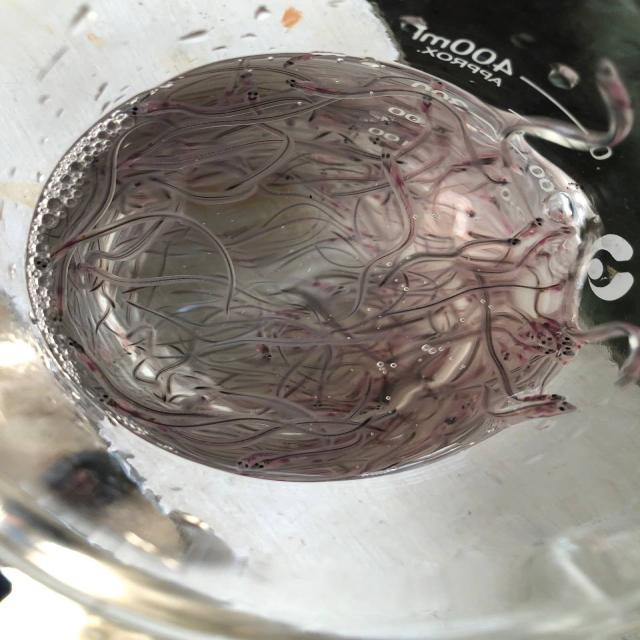glass_eel: (590, 54, 622, 92), (282, 76, 321, 94), (531, 331, 561, 353), (61, 334, 87, 358), (31, 254, 56, 277), (542, 387, 572, 406), (125, 102, 156, 120), (378, 144, 399, 169), (554, 332, 586, 348), (49, 308, 73, 329), (232, 454, 256, 474), (250, 455, 274, 475), (366, 132, 389, 152), (550, 401, 580, 416), (418, 90, 440, 110), (280, 55, 304, 73), (499, 346, 520, 366), (310, 394, 329, 416), (95, 389, 118, 407), (256, 344, 276, 364), (242, 86, 261, 106), (530, 213, 548, 232), (276, 171, 303, 183), (366, 400, 389, 414), (461, 208, 481, 224), (84, 154, 104, 170), (535, 346, 556, 361), (551, 226, 577, 238), (557, 344, 576, 359), (507, 234, 524, 250), (316, 168, 334, 181), (344, 121, 362, 133), (339, 134, 355, 146)
